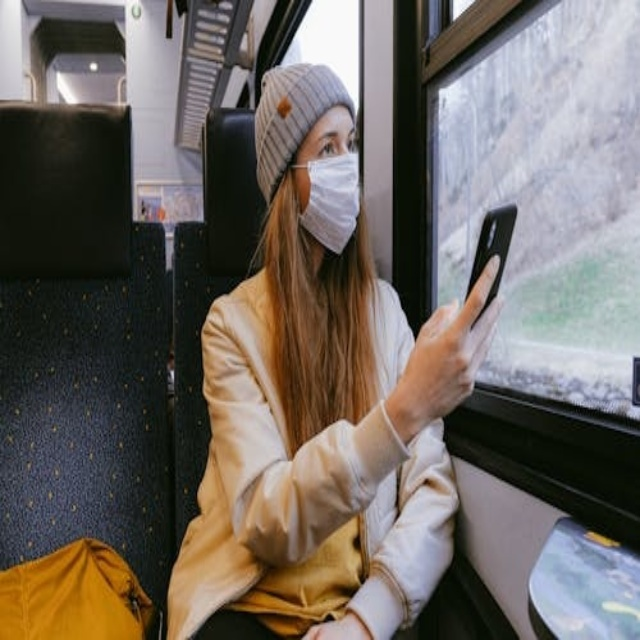Mascara: (293, 152, 361, 254)
Sin_gafas: (303, 121, 357, 160)
Sin_guantes: (397, 257, 509, 434)
